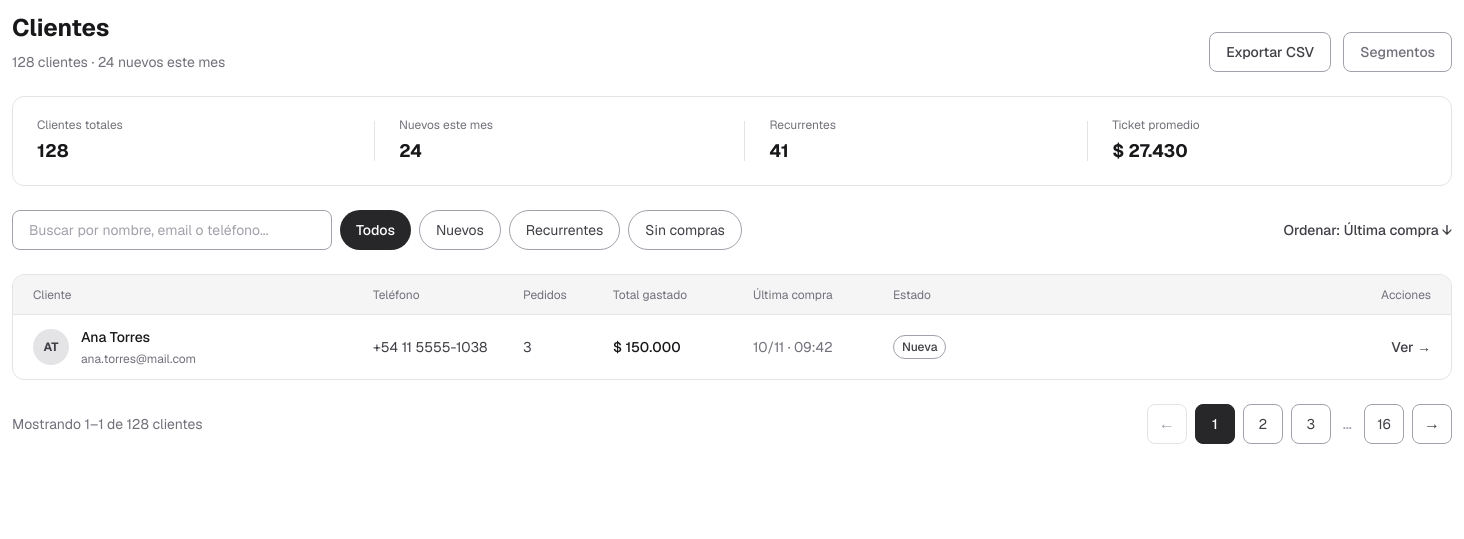
Test: AdminClientsWorkspace › changes the active segment from the Segmentos menu
Click the button "Segmentos": [1398, 52] box [1343,32,1452,72]
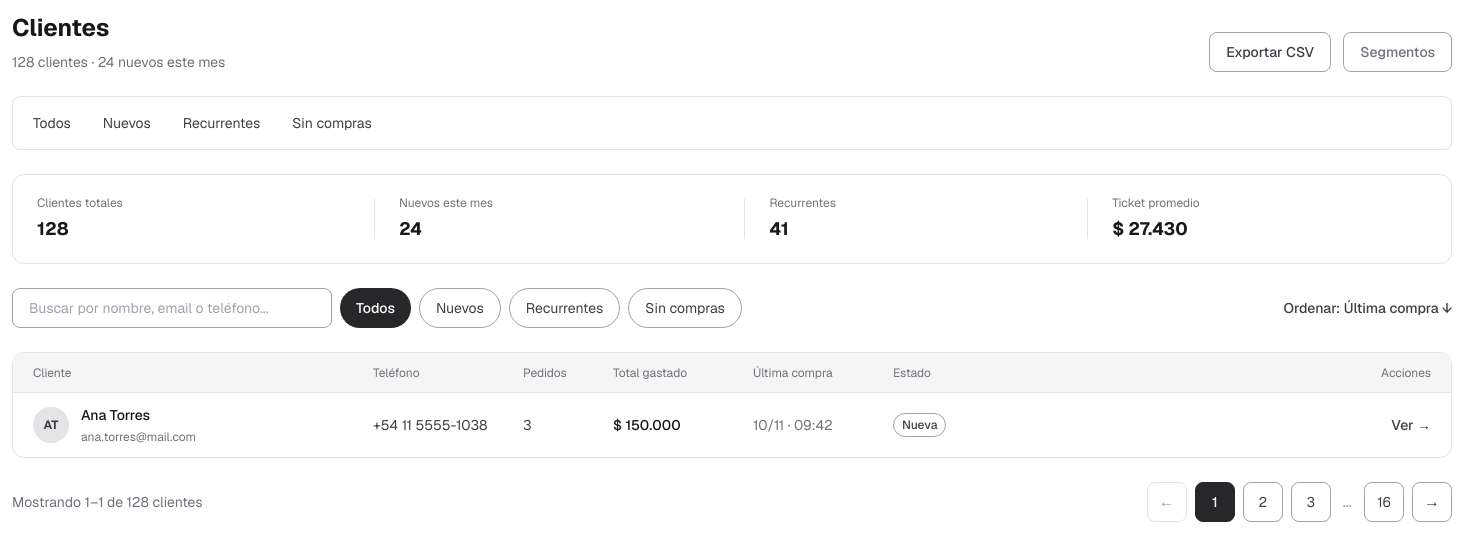
Click the menu item "Recurrentes": [221, 123] box [171,105,272,141]
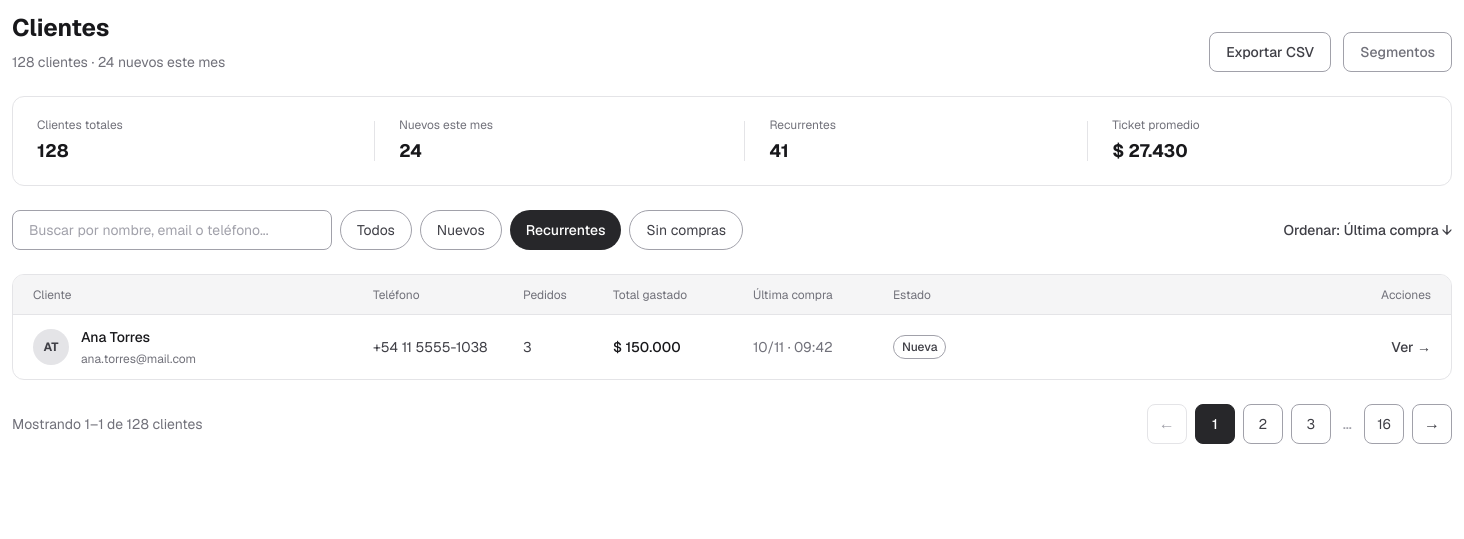
Expected: the button "Todos" does not have attribute aria-current, [340,210,412,250]
Expected: the button "Recurrentes" is marked as current, [510,210,622,250]
